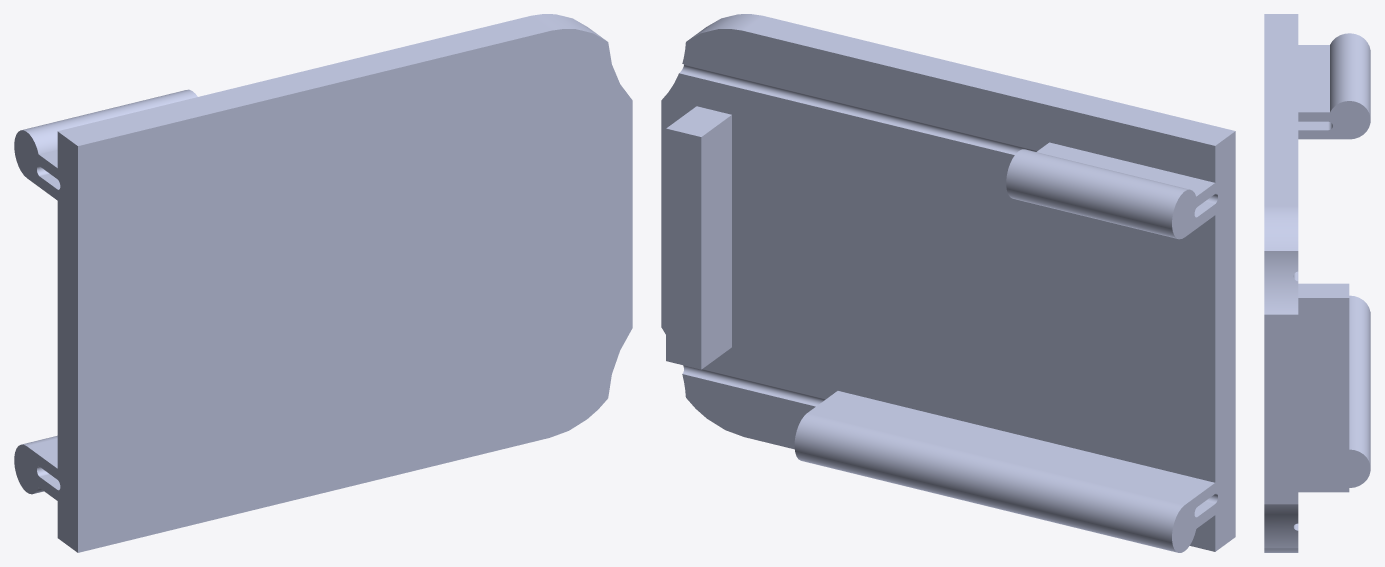
The model's file is capElevadorHolder.glb.
3 renders of one model, left to right at view 1: azimuth 30°, elevation 25°; view 2: azimuth 150°, elevation 25°; view 3: azimuth 270°, elevation 25°, orthographic. The views are drawn at different scales.
Parts seen in each view (by area): view 1: capElevadorHolder; view 2: capElevadorHolder; view 3: capElevadorHolder.
Boxes of the visible parts, left/top/right/bottom form: capElevadorHolder: left=14, top=14, right=632, bottom=552; capElevadorHolder: left=661, top=14, right=1235, bottom=552; capElevadorHolder: left=1264, top=14, right=1370, bottom=552.
Size of the model in its own units: 0.0314 by 0.022 by 0.00624.
